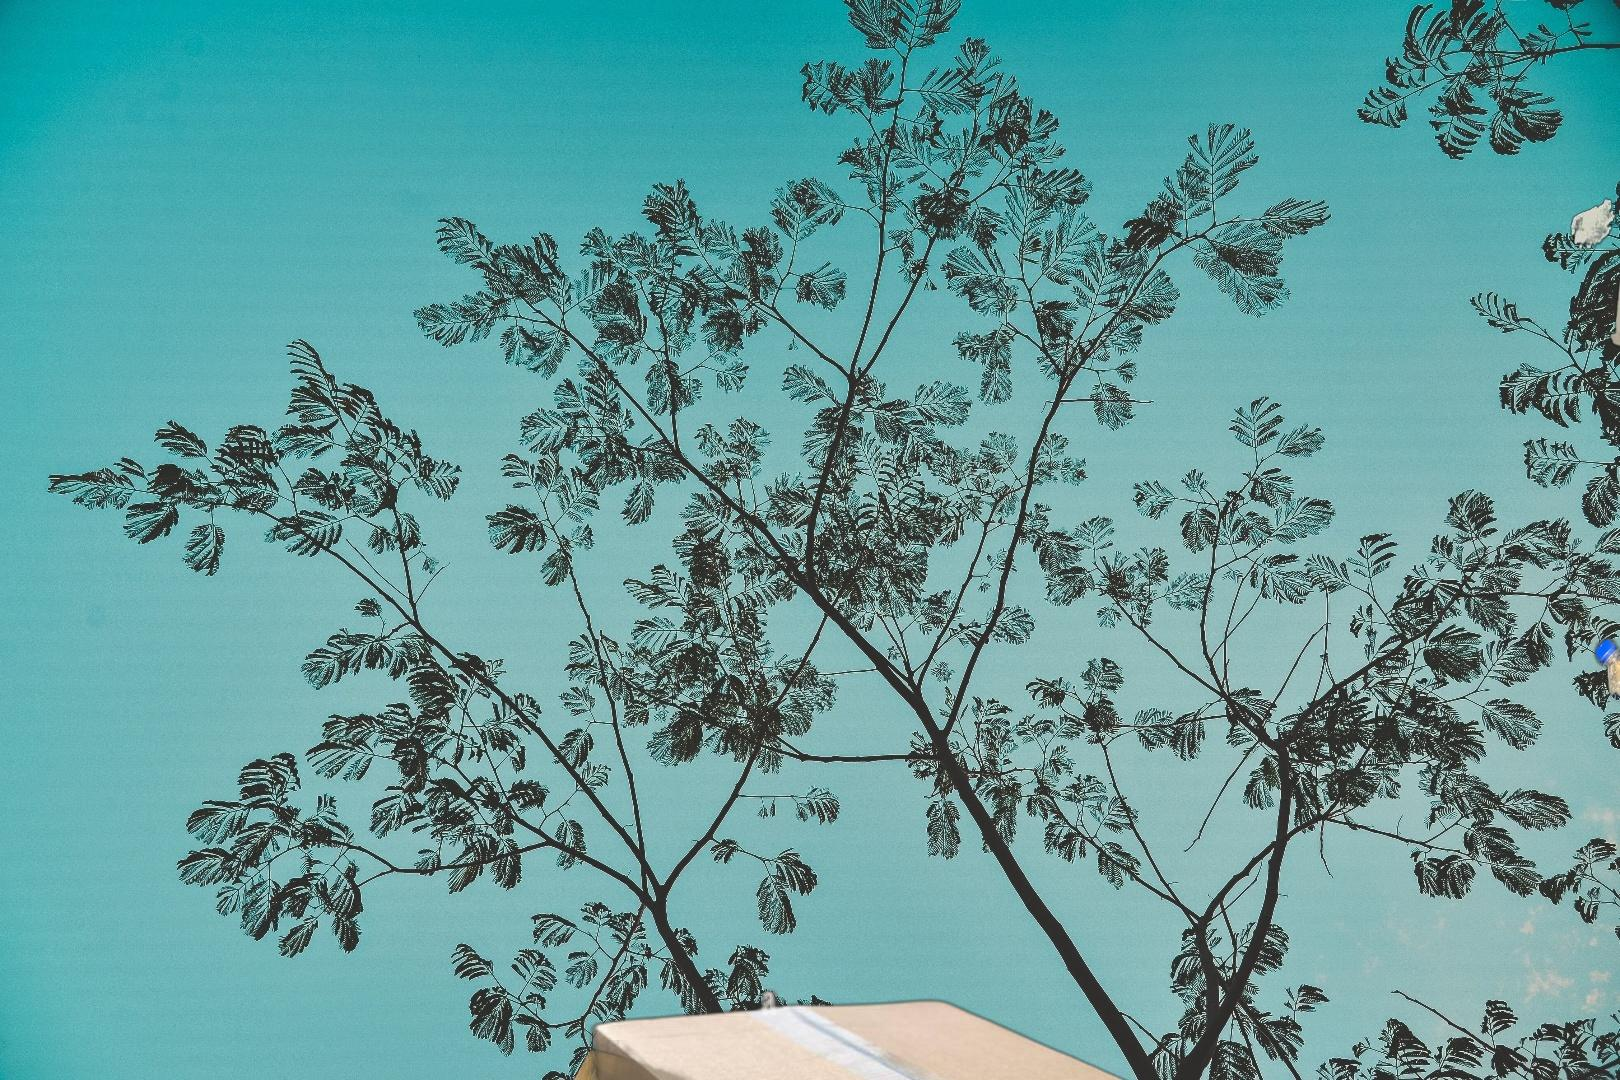paper-bag: (1569, 196, 1620, 442), (542, 1040, 762, 1080)
plastic-bottles: (1591, 630, 1620, 783)
trashbox-cardboard: (579, 984, 1266, 1080)
